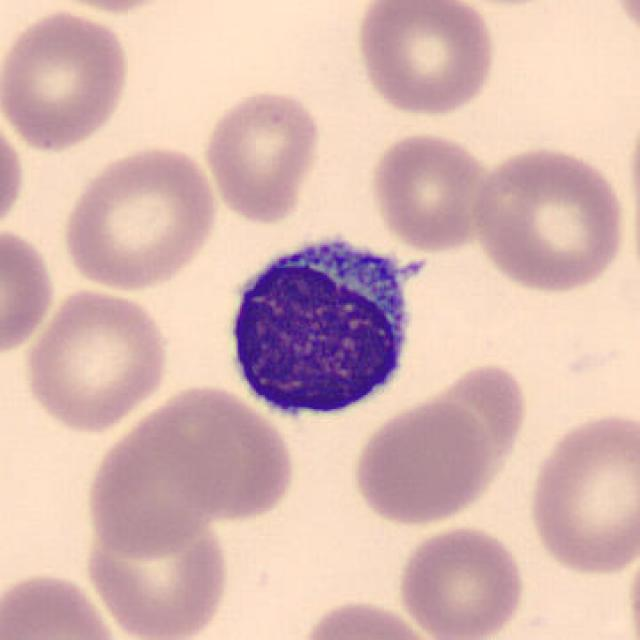Lymphocyte: (215, 222, 425, 429)
RBC: (80, 386, 233, 561), (57, 141, 222, 293), (470, 141, 630, 294), (20, 284, 174, 434), (142, 381, 297, 525), (80, 506, 235, 640), (400, 364, 528, 518), (0, 7, 135, 153), (523, 408, 638, 578), (348, 397, 496, 529), (352, 0, 500, 120), (199, 84, 324, 226), (366, 129, 496, 254), (394, 522, 530, 640), (1, 567, 126, 640), (0, 220, 57, 362), (291, 596, 441, 640), (0, 107, 28, 239), (604, 0, 640, 51)
